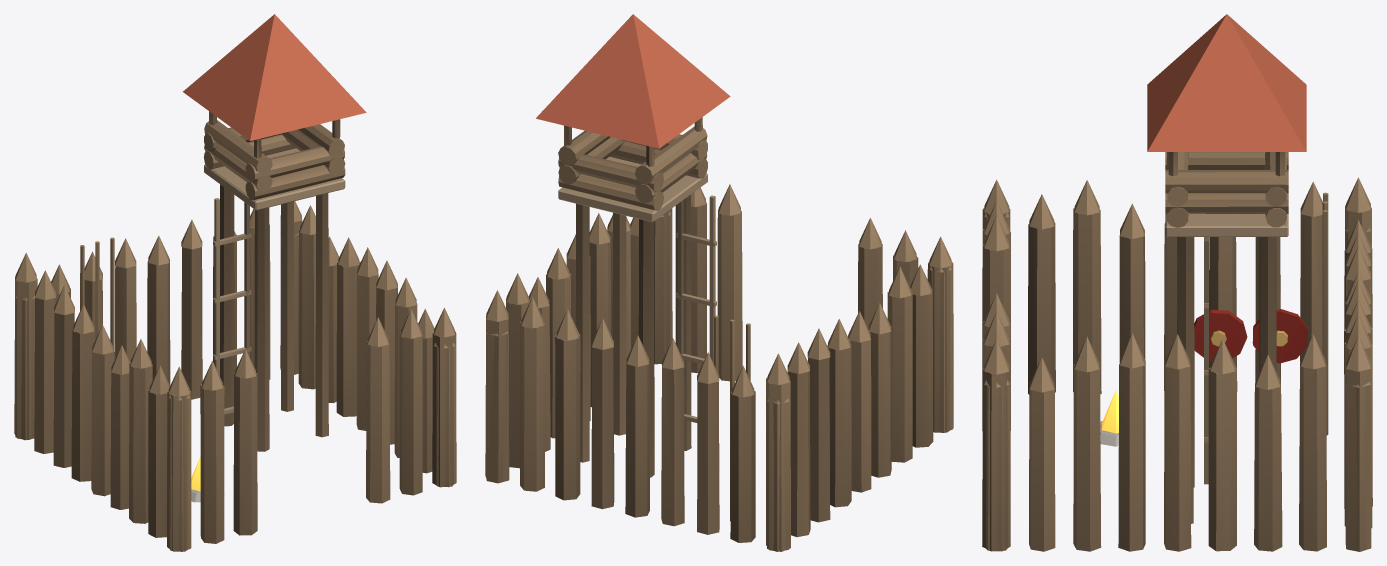
The model's file is bld_zastava.glb.
3 renders of one model, left to right at view 1: azimuth 30°, elevation 25°; view 2: azimuth 150°, elevation 25°; view 3: azimuth 270°, elevation 25°, orthographic. The views are drawn at different scales.
Visible parts, largest first — view 1: zastava; view 2: zastava; view 3: zastava.
Boxes of the visible parts, x1,y1,x2,y2 form: zastava: [14, 14, 456, 551]; zastava: [485, 14, 953, 551]; zastava: [982, 14, 1372, 551].
Size of the model in its own units: 0.9513 by 1.32 by 0.9504.
